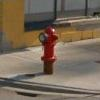Hydrant: (31, 20, 65, 76)
